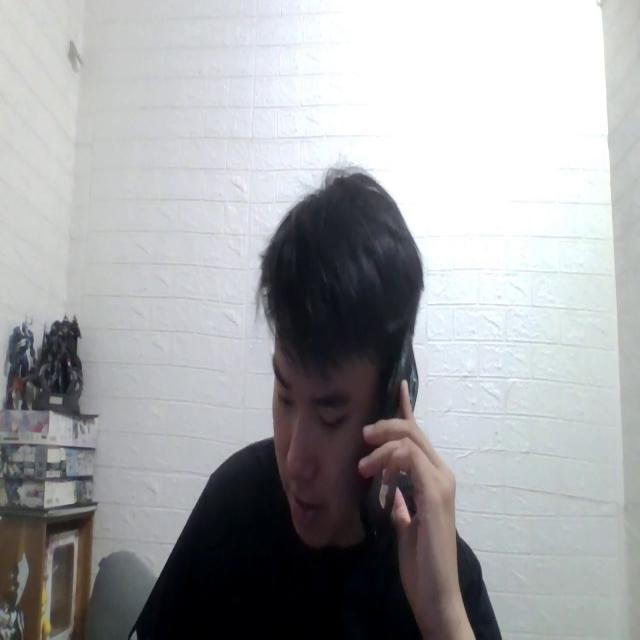phone: (355, 314, 421, 540)
student: (116, 157, 501, 640)
